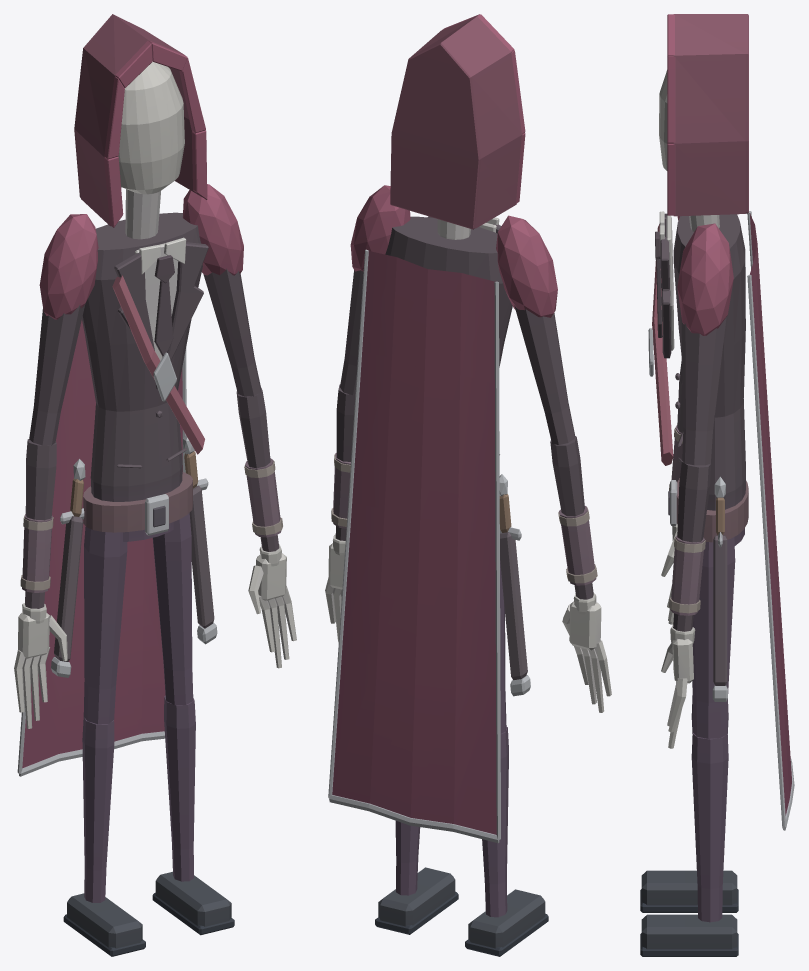
File: SlendermanAssassin.glb
3 views of the same model, side by side, from view 1: azimuth 30°, elevation 25°; view 2: azimuth 150°, elevation 25°; view 3: azimuth 270°, elevation 25° (orthographic).
Visible parts, largest first — view 1: Body, Head, ArmR, LegR, ArmL, LegL; view 2: Body, Head, ArmR, ArmL, LegR, LegL; view 3: Body, Head, ArmL, LegL, LegR, ArmR.
Boxes of the visible parts, x1,y1,x2,y2 form: Body: (17,189,217,776); Head: (74,14,207,227); ArmR: (14,214,98,728); LegR: (63,527,145,956); ArmL: (183,184,296,668); LegL: (152,513,234,935); Body: (328,216,530,843); Head: (390,14,525,229); ArmR: (496,215,611,712); ArmL: (325,185,410,642); LegR: (465,561,548,956); LegL: (375,821,458,934); Body: (648,211,794,830); Head: (659,14,748,216); ArmL: (661,223,733,748); LegL: (640,537,738,956); LegR: (640,695,738,912); ArmR: (661,216,683,624).
Size of the model in its own units: 2.68 by 8.26 by 1.27.
